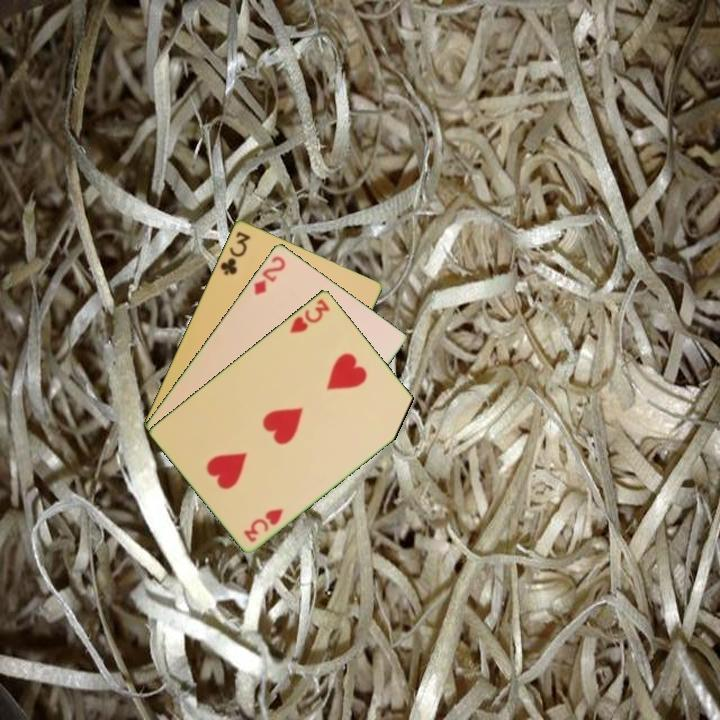2d: (250, 252, 289, 297)
3c: (216, 227, 253, 278)
3h: (286, 295, 333, 336), (240, 504, 287, 545)
